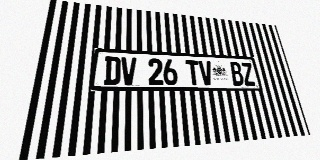2: (148, 58, 163, 85)
6: (162, 59, 178, 85)
B: (229, 62, 245, 86)
D: (103, 56, 121, 85)
T: (185, 60, 201, 85)
V: (121, 57, 136, 85), (198, 60, 214, 85)
Z: (240, 62, 256, 86)
